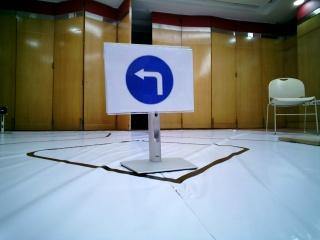left: (109, 49, 194, 112)
